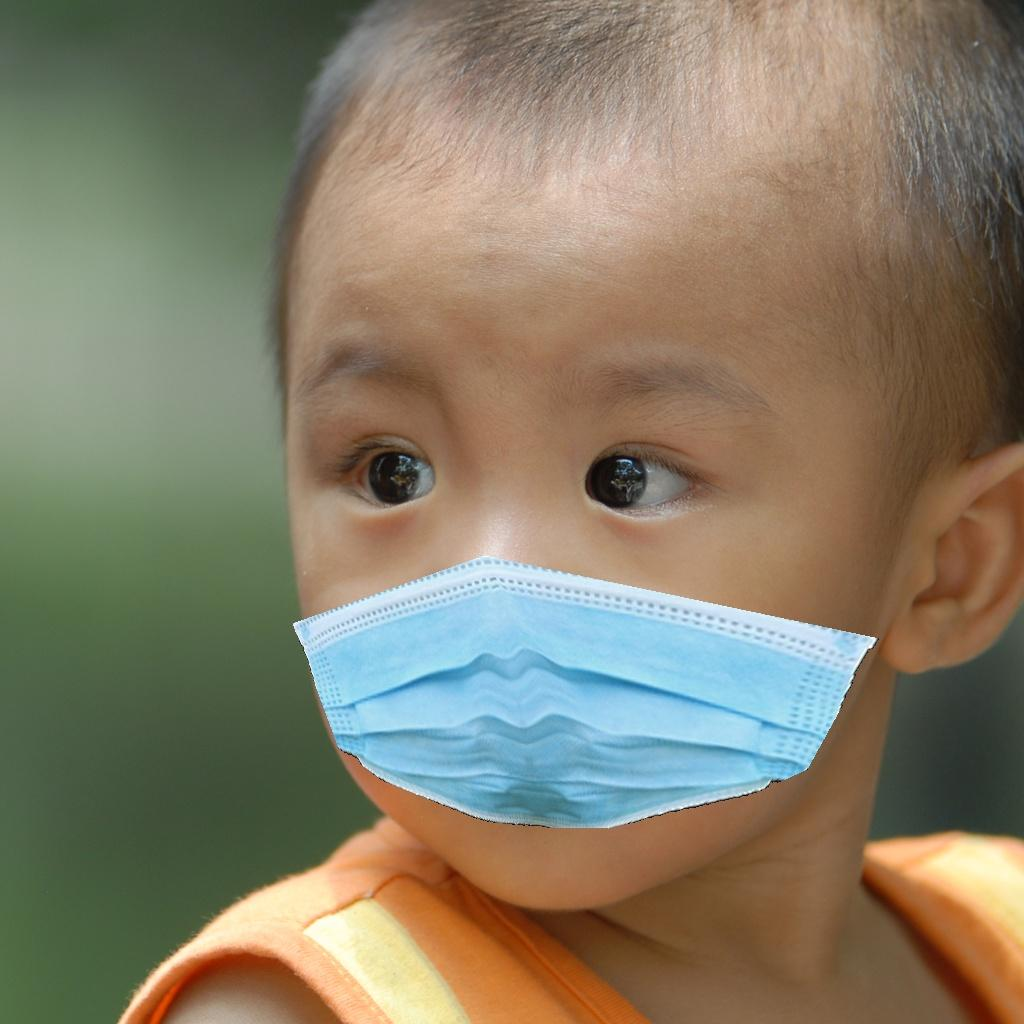Com Máscara: (278, 289, 889, 916)
